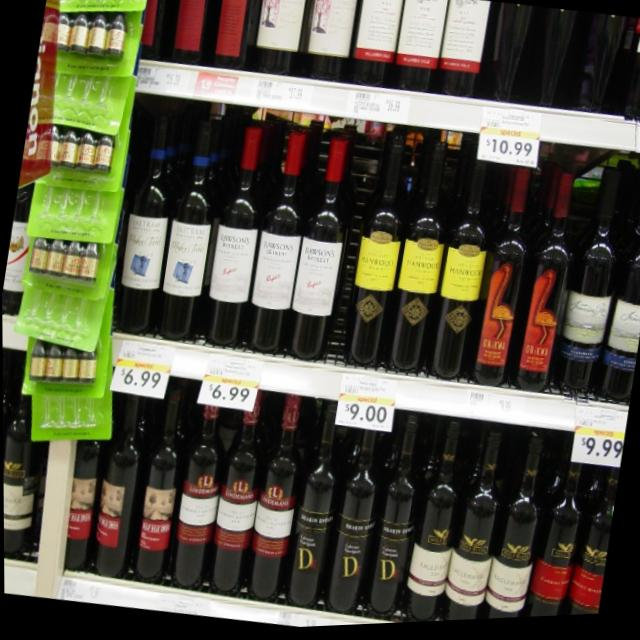q175: (162, 374, 242, 613), (240, 381, 319, 591), (205, 389, 270, 593)
